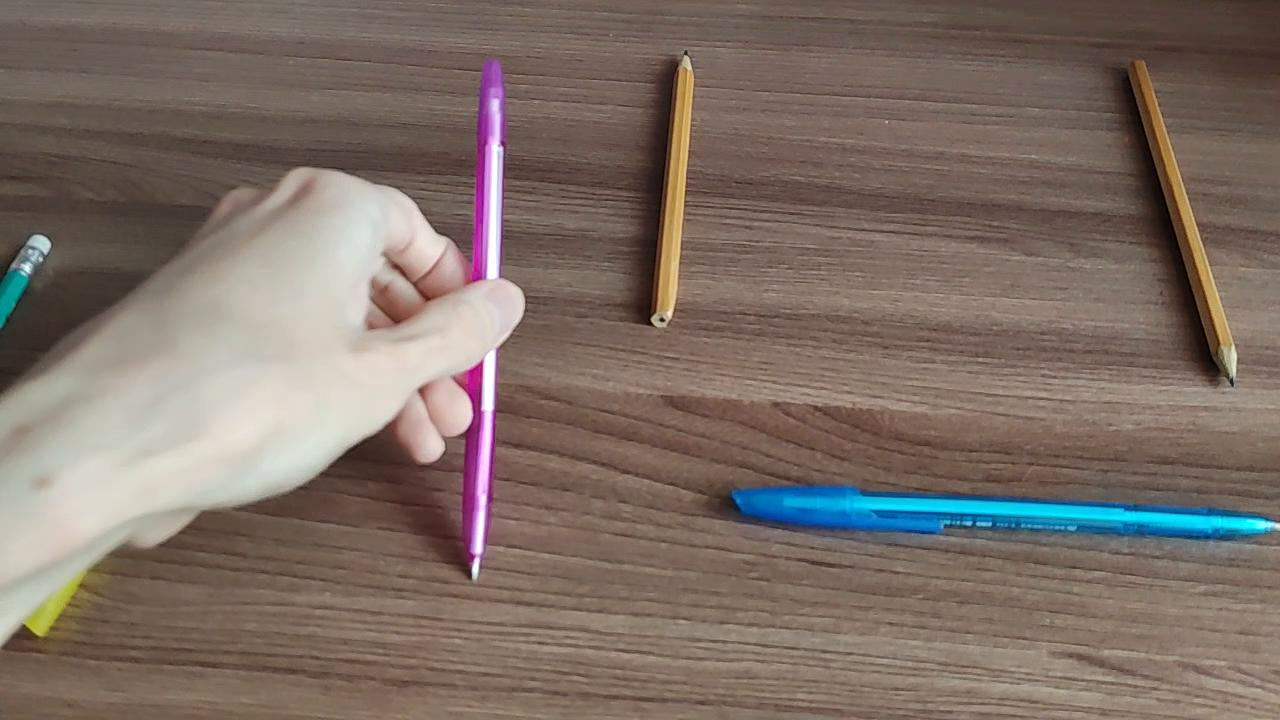pen: (719, 481, 1280, 540), (459, 46, 506, 592)
pencil: (1123, 55, 1243, 393), (648, 43, 694, 334), (0, 229, 56, 336)
